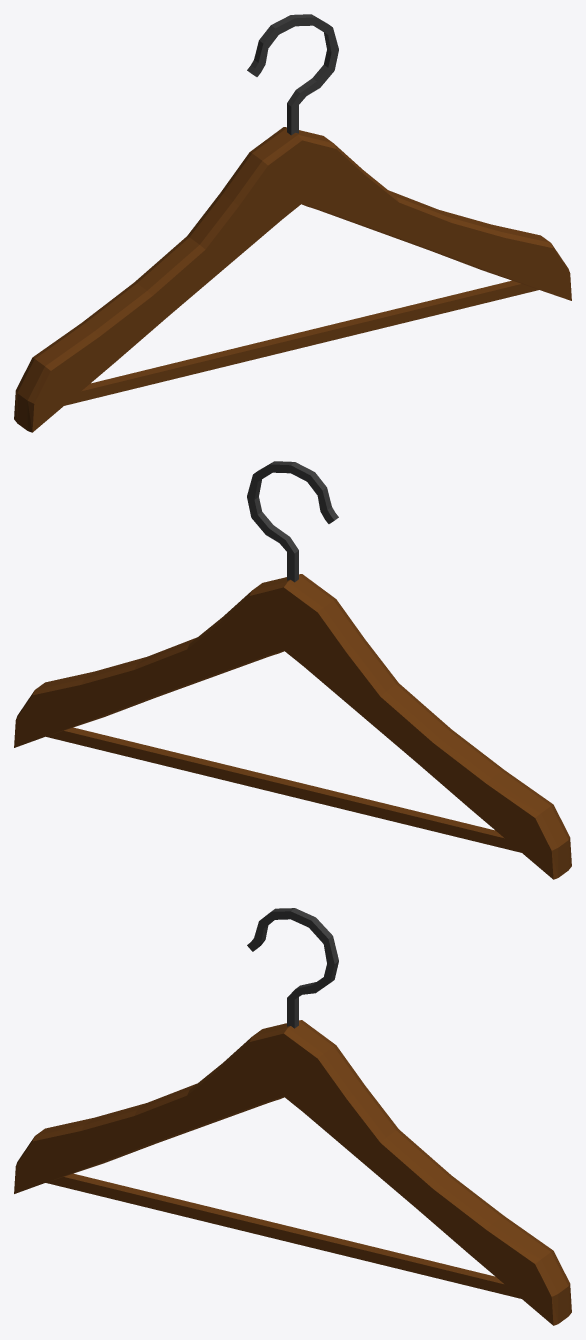
The model's file is clothes hanger.obj.
3 renders of one model, top to bottom at view 1: azimuth 30°, elevation 25°; view 2: azimuth 150°, elevation 25°; view 3: azimuth 330°, elevation 25°, orthographic.
Bounding box in the file's own units: 4.39 × 2.67 × 0.2596.
